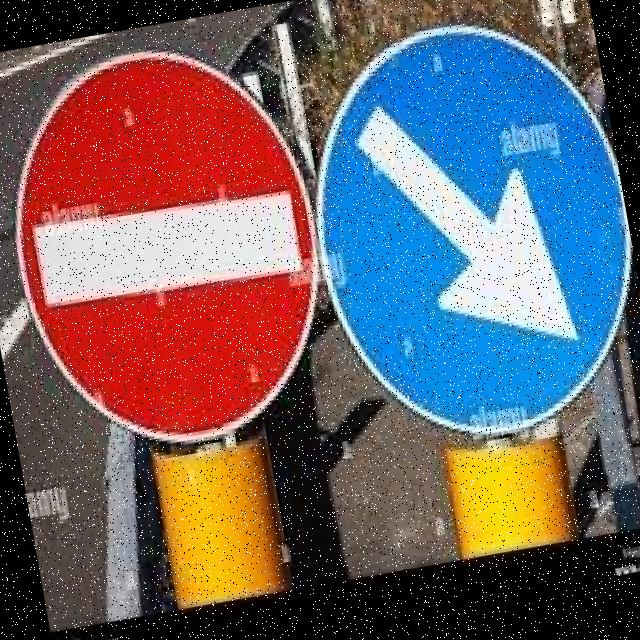compulsory_keep_right: (284, 0, 640, 459)
do_not_enter: (0, 16, 347, 467)
